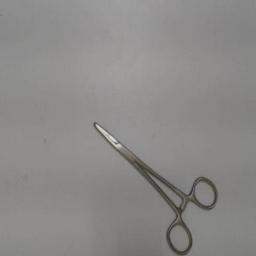Mayo Needle Holder: (86, 115, 222, 255)
